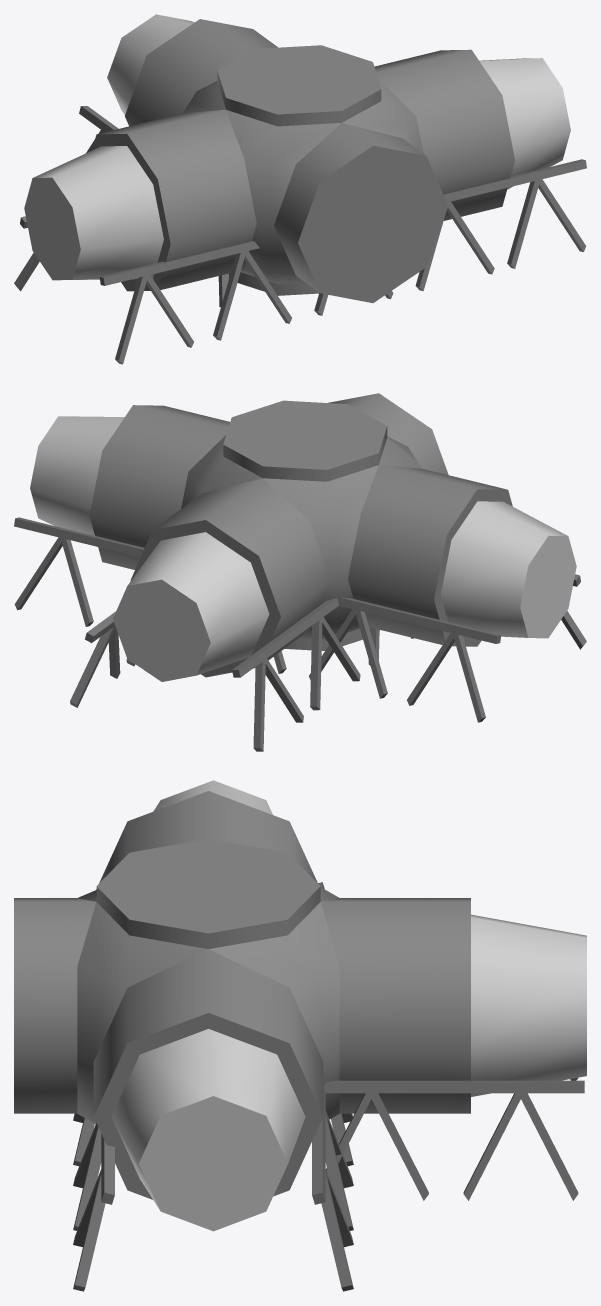
The model's file is TunnelIntersectionT.glb.
3 renders of one model, top to bottom at view 1: azimuth 30°, elevation 25°; view 2: azimuth 150°, elevation 25°; view 3: azimuth 270°, elevation 25°, orthographic. The views are drawn at different scales.
Parts seen in each view (by area): view 1: IntersectionT, IntersectionT1, IntersectionT2; view 2: IntersectionT, IntersectionT1, IntersectionT2; view 3: IntersectionT, IntersectionT1, IntersectionT2.
Boxes of the visible parts, x1,y1,x2,y2 form: IntersectionT: [24, 14, 570, 303]; IntersectionT1: [14, 159, 586, 364]; IntersectionT2: [79, 106, 228, 307]; IntersectionT: [30, 393, 576, 681]; IntersectionT1: [14, 517, 586, 722]; IntersectionT2: [70, 598, 413, 751]; IntersectionT: [14, 780, 586, 1231]; IntersectionT1: [73, 882, 353, 1291]; IntersectionT2: [323, 1077, 584, 1200].
Size of the model in its own units: 2.01 by 0.7546 by 1.53.
Materials: 1 (1 with a texture image).
